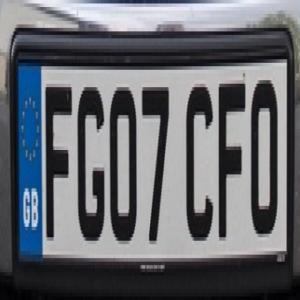Plate: (10, 35, 293, 287)
